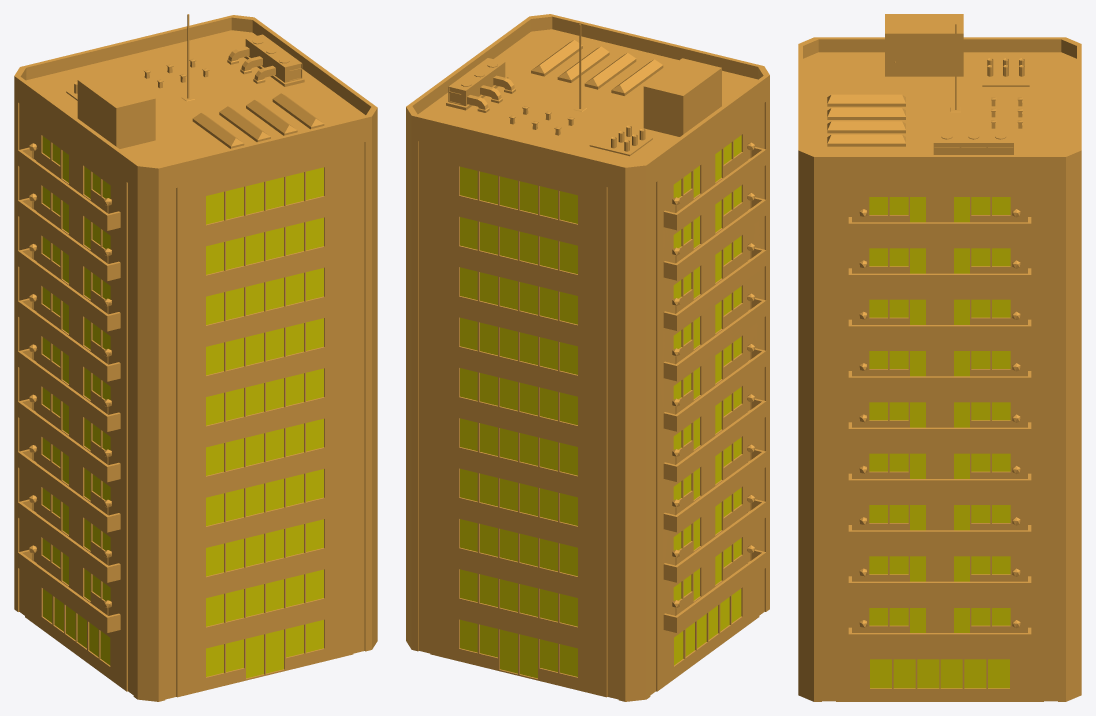
Rendered from Building_15.fbx.
The picture shows the model from 3 angles, left to right: view 1: azimuth 30°, elevation 25°; view 2: azimuth 150°, elevation 25°; view 3: azimuth 270°, elevation 25°; orthographic projection. The views are drawn at different scales.
Parts seen in each view (by area): view 1: building-office-balcony, building-office-balcony.001, building-office-balcony.002; view 2: building-office-balcony, building-office-balcony.001, building-office-balcony.002; view 3: building-office-balcony, building-office-balcony.001, building-office-balcony.002.
Part boxes in pixels (x1,y1,x2,y2): building-office-balcony: (14, 14, 377, 342); building-office-balcony.001: (14, 401, 377, 701); building-office-balcony.002: (14, 251, 377, 493); building-office-balcony: (406, 14, 769, 342); building-office-balcony.001: (406, 401, 769, 701); building-office-balcony.002: (406, 250, 769, 493); building-office-balcony: (798, 14, 1081, 341); building-office-balcony.001: (798, 483, 1081, 701); building-office-balcony.002: (798, 329, 1081, 495).
Bounding box in the file's own units: 7.18 × 15.56 × 6.46.
